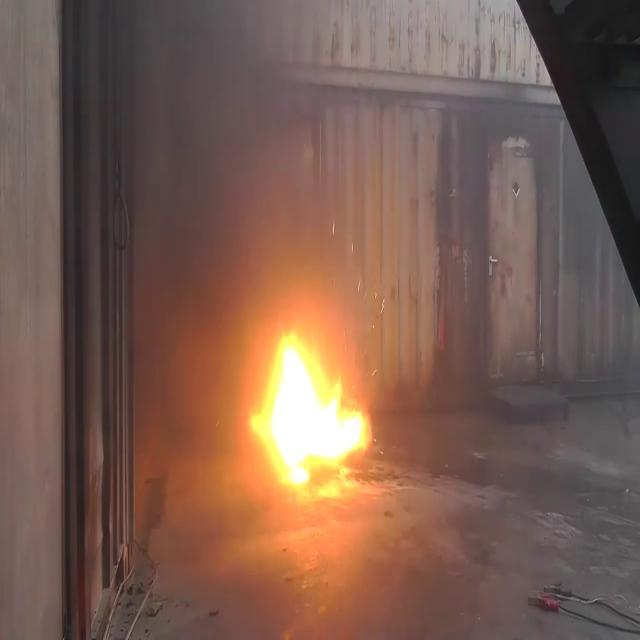Fire: (258, 320, 374, 494)
Smoke: (125, 0, 355, 296)
